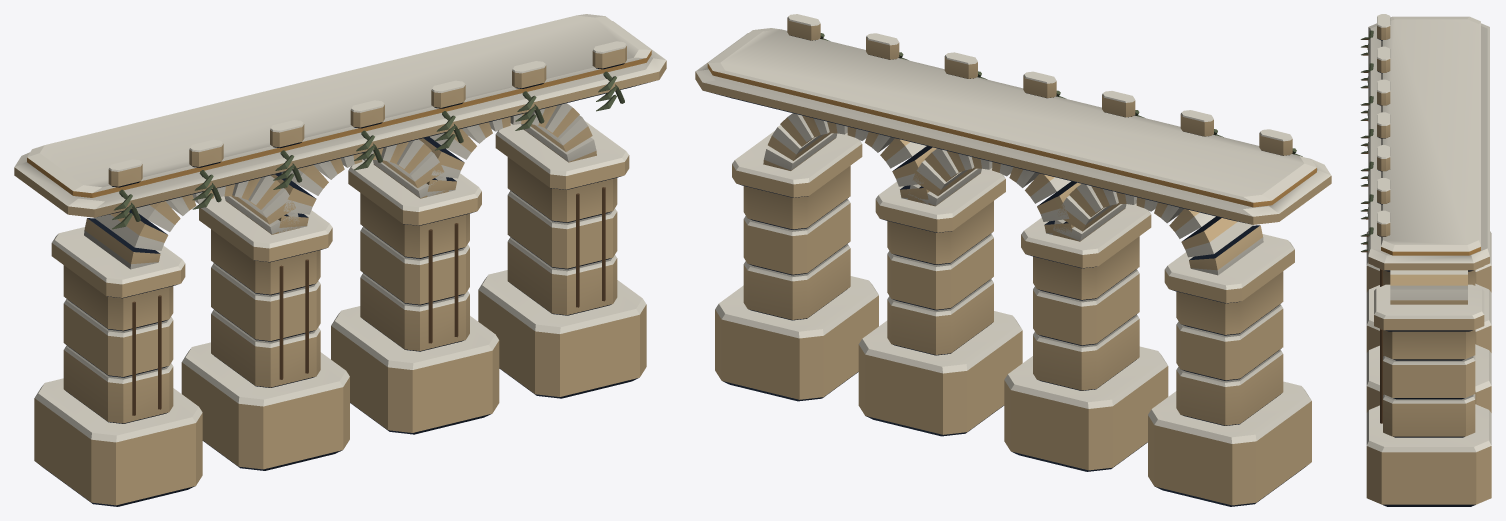
Rendered from heliostat-aqueduct.glb.
The picture shows the model from 3 angles, left to right: view 1: azimuth 30°, elevation 25°; view 2: azimuth 150°, elevation 25°; view 3: azimuth 270°, elevation 25°; orthographic projection. The views are drawn at different scales.
Visible parts, largest first — view 1: heliostat-aqueduct; view 2: heliostat-aqueduct; view 3: heliostat-aqueduct.
Part boxes in pixels (x1,y1,x2,y2): heliostat-aqueduct: (14,14,666,506); heliostat-aqueduct: (695,14,1331,506); heliostat-aqueduct: (1360,14,1491,506).
Bounding box in the file's own units: 14.84 × 7.9 × 3.38.
